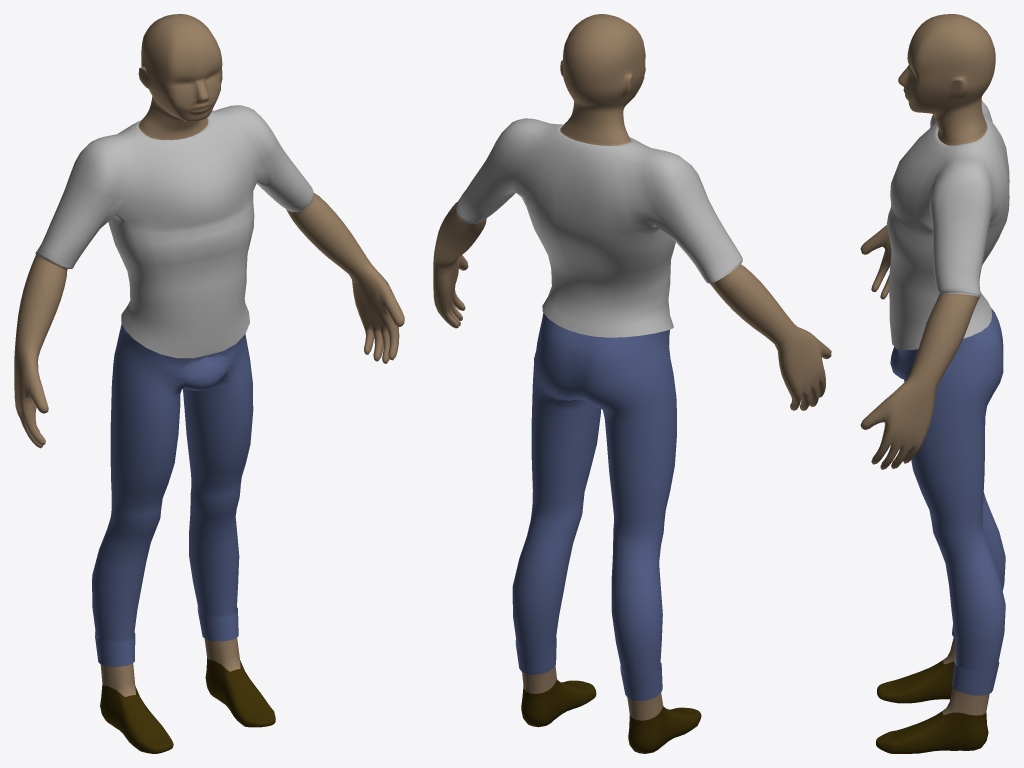
Rendered from Testman.fbx.
3 views of the same model, side by side, from view 1: azimuth 30°, elevation 25°; view 2: azimuth 150°, elevation 25°; view 3: azimuth 270°, elevation 25° (orthographic). The views are drawn at different scales.
Parts seen in each view (by area): view 1: Cylinder001; view 2: Cylinder001; view 3: Cylinder001.
Boxes of the visible parts, x1,y1,x2,y2 form: Cylinder001: (14, 14, 404, 753); Cylinder001: (433, 14, 831, 753); Cylinder001: (860, 14, 1009, 753).
Size of the model in its own units: 415 by 738 by 141.
